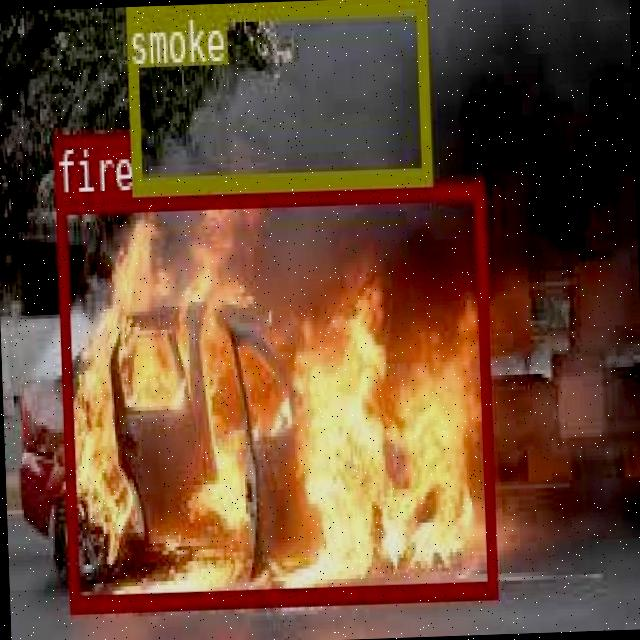fire: (53, 180, 496, 611)
smoke: (125, 0, 430, 189)
